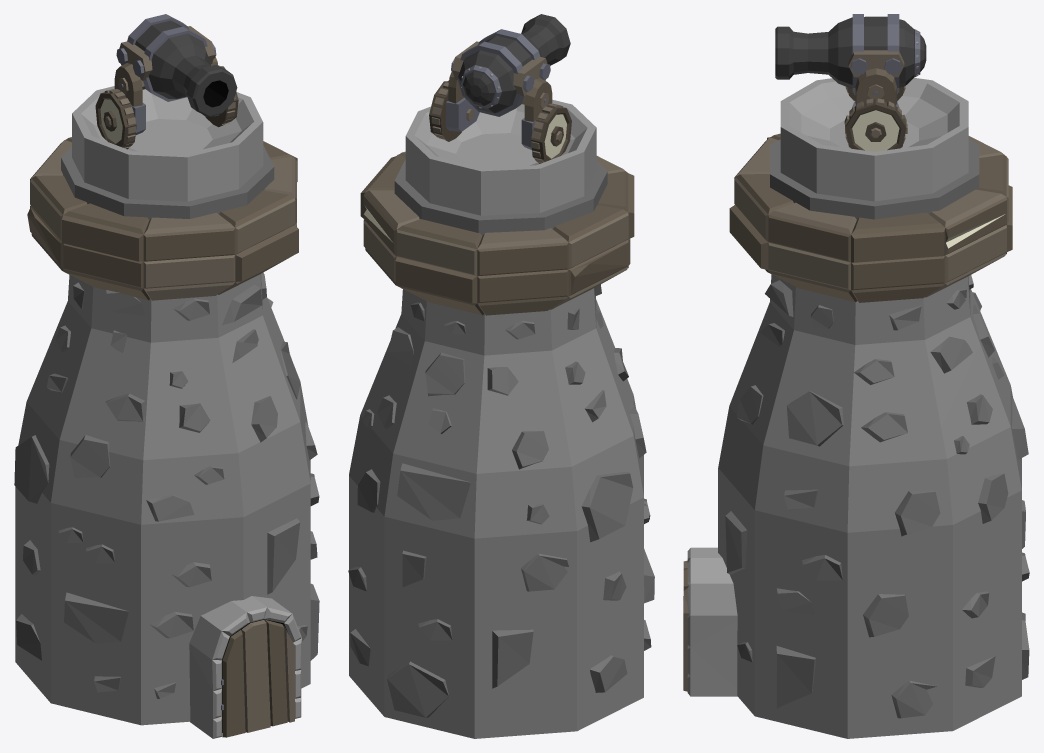
Rendered from _Cannon_tower_LVL_1.fbx.
3 views of the same model, side by side, from view 1: azimuth 30°, elevation 25°; view 2: azimuth 150°, elevation 25°; view 3: azimuth 270°, elevation 25° (orthographic). The views are drawn at different scales.
Parts seen in each view (by area): view 1: Cannon_tower_LVL_1; view 2: Cannon_tower_LVL_1; view 3: Cannon_tower_LVL_1.
Boxes of the visible parts, bbox=[...] form: Cannon_tower_LVL_1: bbox=[14, 14, 319, 738]; Cannon_tower_LVL_1: bbox=[348, 14, 654, 738]; Cannon_tower_LVL_1: bbox=[683, 14, 1029, 738].
Bounding box in the file's own units: 546 × 1251 × 600.
